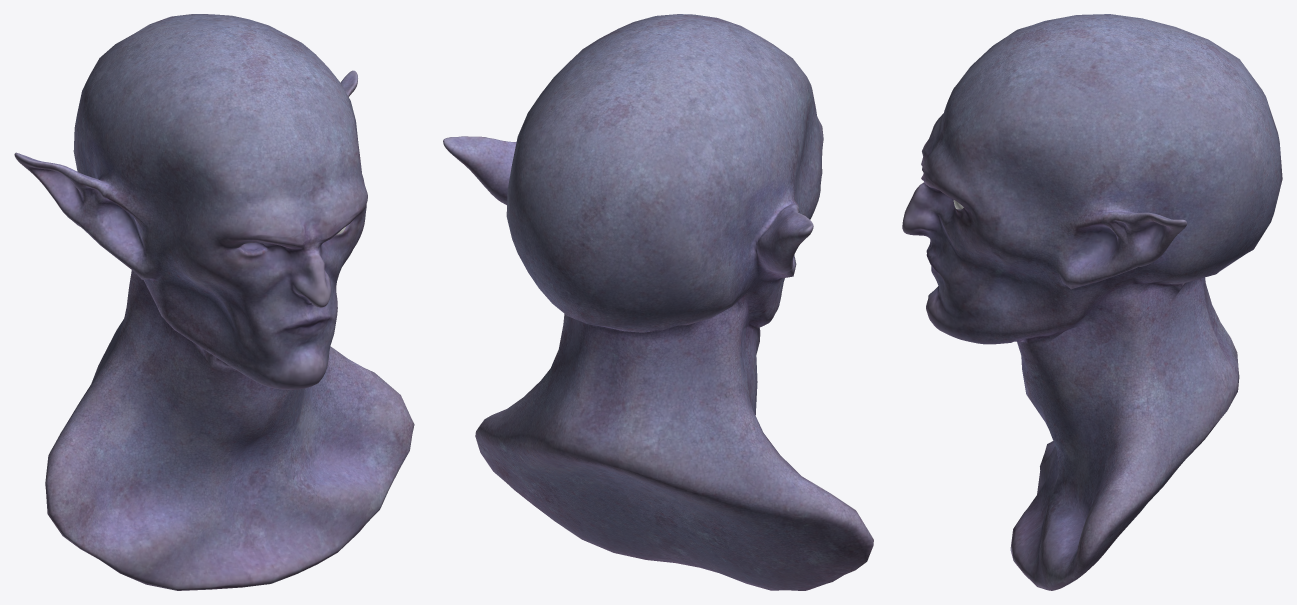
File: character-v3.glb
3 renders of one model, left to right at view 1: azimuth 30°, elevation 25°; view 2: azimuth 150°, elevation 25°; view 3: azimuth 270°, elevation 25°, orthographic. The views are drawn at different scales.
Parts seen in each view (by area): view 1: Low_Final; view 2: Low_Final; view 3: Low_Final.
Boxes of the visible parts, left/top/right/bottom form: Low_Final: left=14, top=14, right=414, bottom=590; Low_Final: left=443, top=14, right=873, bottom=590; Low_Final: left=902, top=14, right=1282, bottom=590.
Bounding box in the file's own units: 1.61 × 2.18 × 1.44.
3 materials, 1 textured.
